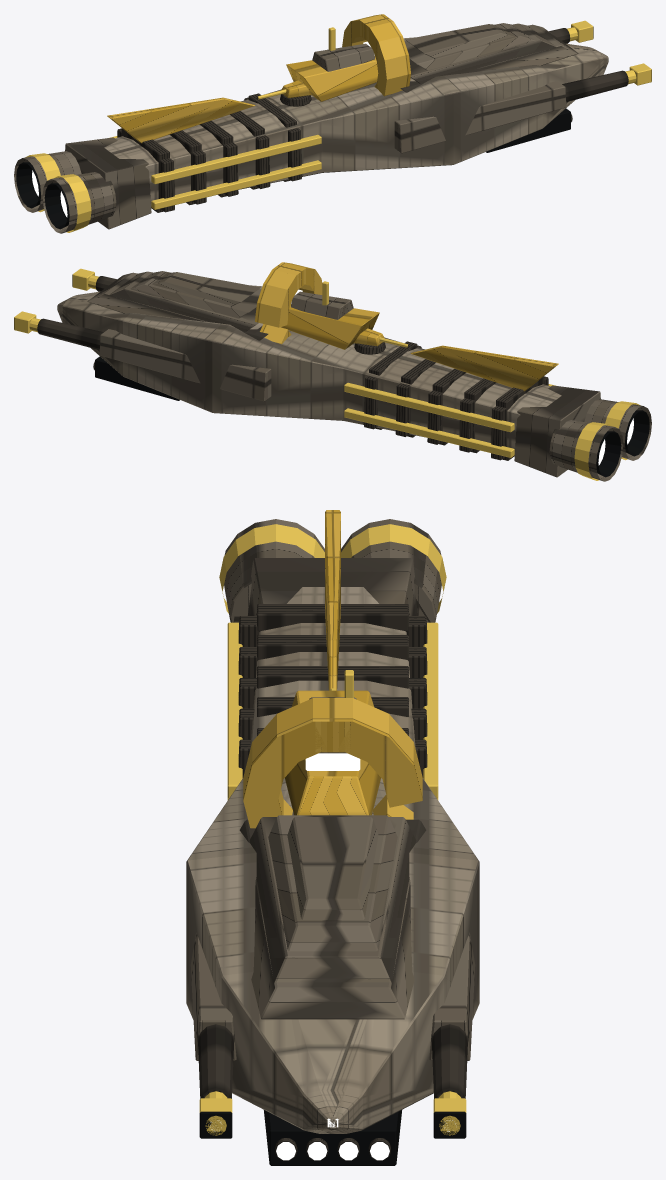
File: destroyer.glb
3 renders of one model, top to bottom at view 1: azimuth 30°, elevation 25°; view 2: azimuth 150°, elevation 25°; view 3: azimuth 270°, elevation 25°, orthographic. The views are drawn at different scales.
Visible parts, largest first — view 1: destroyer; view 2: destroyer; view 3: destroyer.
Part boxes in pixels (x1,y1,x2,y2): destroyer: (14, 14, 651, 233); destroyer: (14, 262, 651, 481); destroyer: (186, 510, 479, 1165).
Size of the model in its own units: 30 by 7.06 by 6.61.
Materials: 1 (1 with a texture image).
